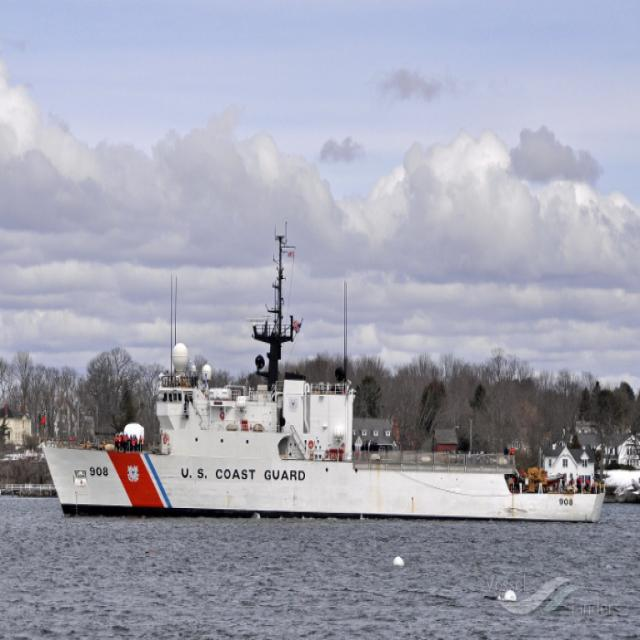OCR: (178, 457, 304, 491), (549, 490, 583, 515), (86, 456, 114, 485)
